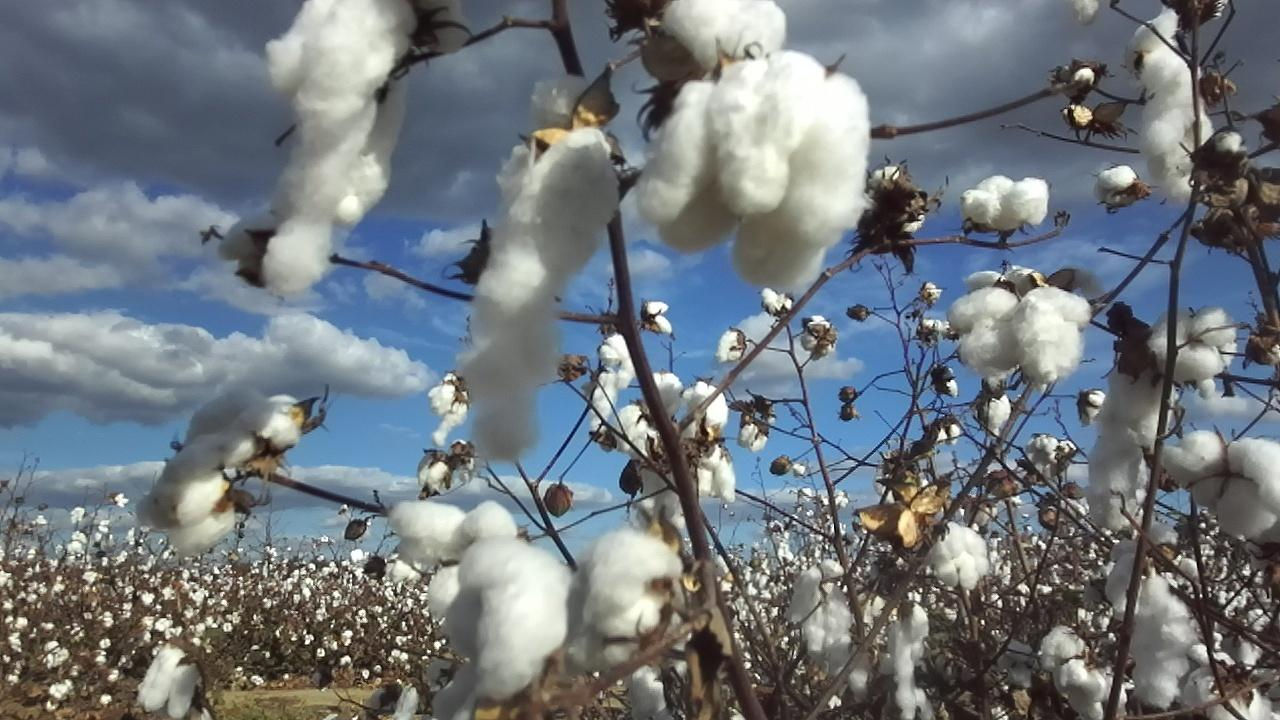cotton_ready: (461, 74, 619, 457), (265, 0, 465, 295), (638, 54, 868, 294), (141, 390, 305, 554), (565, 527, 682, 712), (444, 539, 574, 702), (1126, 8, 1212, 204), (390, 501, 519, 621), (1087, 363, 1177, 532), (946, 287, 1092, 384), (1159, 430, 1280, 537), (641, 0, 787, 80), (1040, 624, 1136, 719), (1132, 598, 1197, 710), (1150, 304, 1235, 381), (433, 670, 559, 720), (1107, 527, 1181, 612), (785, 562, 852, 654), (893, 602, 937, 720), (139, 644, 200, 720), (960, 175, 1047, 227), (1181, 671, 1277, 718), (932, 526, 994, 589), (363, 682, 452, 720), (692, 442, 739, 504), (639, 459, 682, 517), (964, 267, 1037, 298)
